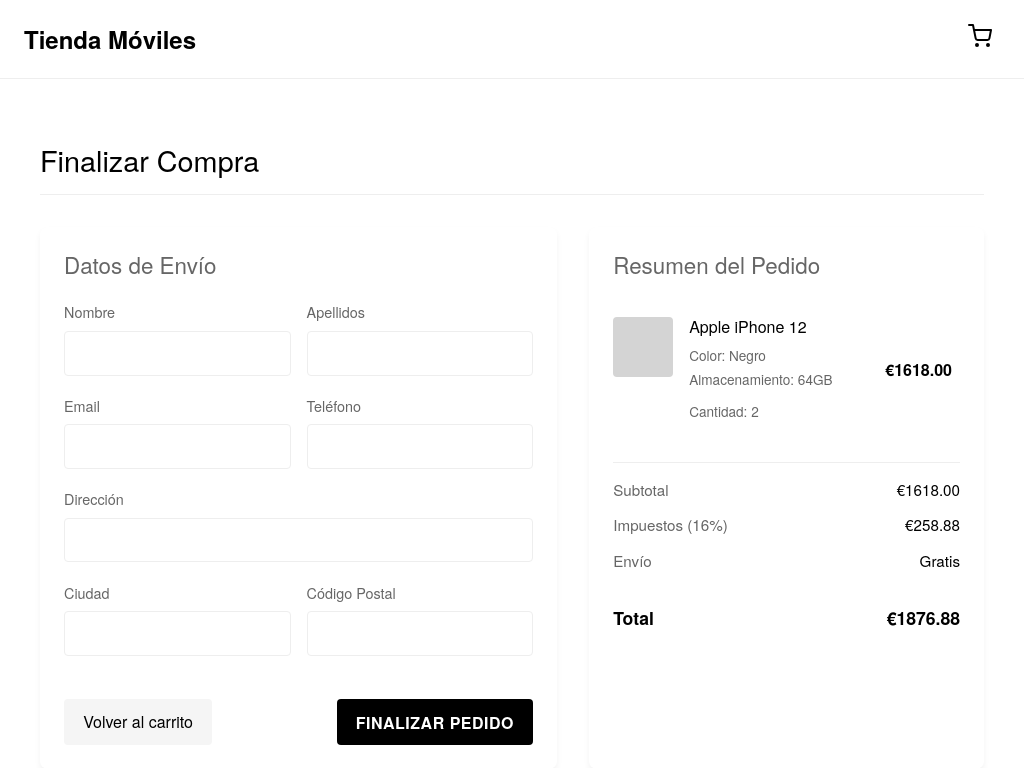
Test: CheckoutPage › debería mostrar errores de validación cuando se envía el formulario vacío
// Enviar formulario sin completar campos
Click the button "Finalizar pedido": x=435, y=722 [337, 700, 533, 745]
(page scrolled)
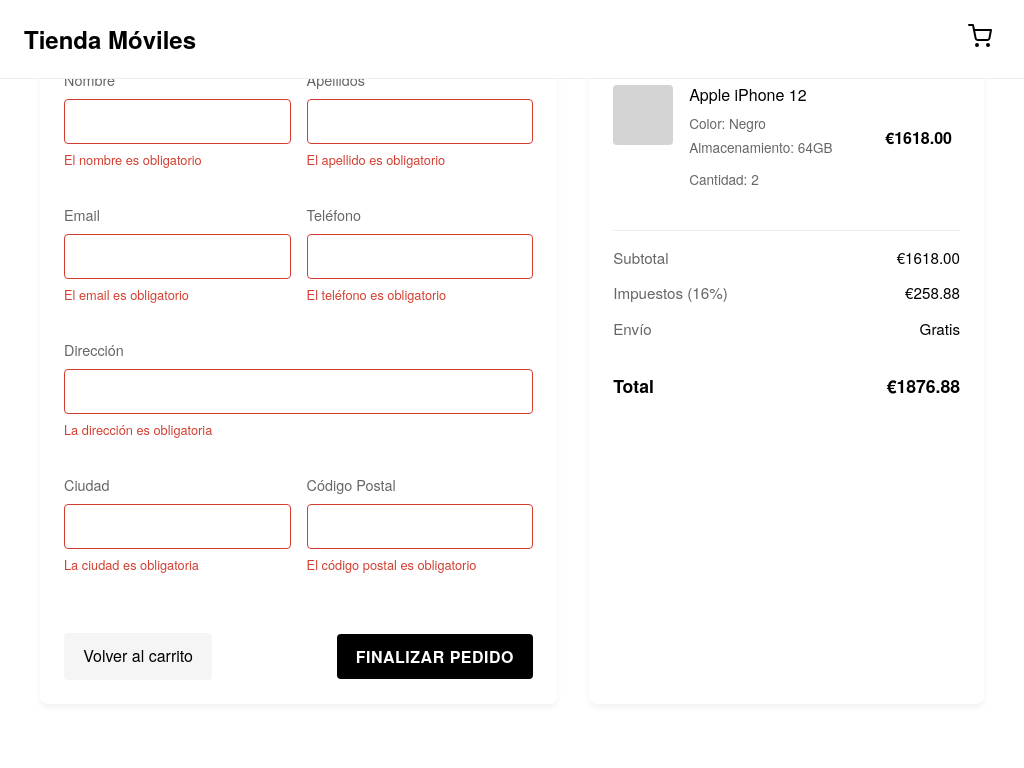
Check: the text "El nombre es obligatorio" is shown, box [64, 150, 202, 169]
Check: the text "El apellido es obligatorio" is shown, box [307, 150, 445, 169]
Check: the text "El email es obligatorio" is shown, box [64, 285, 189, 304]
